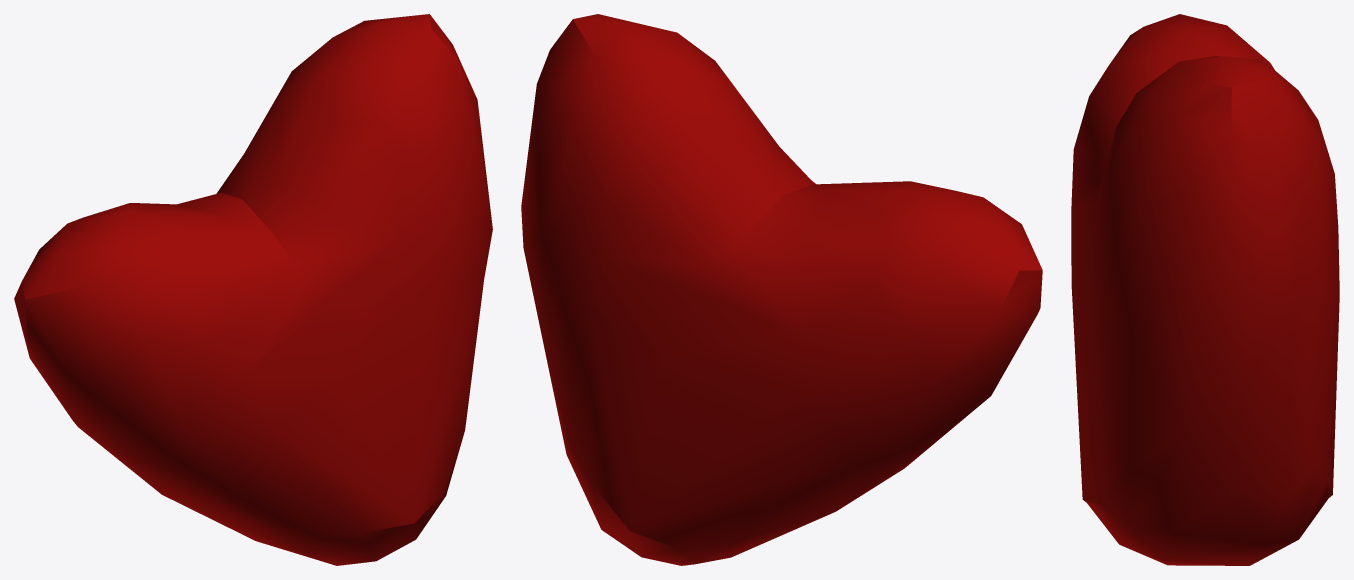
Rendered from Health-Hart-1.glb.
The picture shows the model from 3 angles, left to right: view 1: azimuth 30°, elevation 25°; view 2: azimuth 150°, elevation 25°; view 3: azimuth 270°, elevation 25°; orthographic projection. The views are drawn at different scales.
Parts seen in each view (by area): view 1: Health-Hart-1.001; view 2: Health-Hart-1.001; view 3: Health-Hart-1.001.
Part boxes in pixels (x1=…): Health-Hart-1.001: x1=14, y1=14, x2=492, y2=565; Health-Hart-1.001: x1=521, y1=14, x2=1042, y2=565; Health-Hart-1.001: x1=1071, y1=14, x2=1339, y2=565.
Size of the model in its own units: 0.1206 by 0.1224 by 0.0564.
